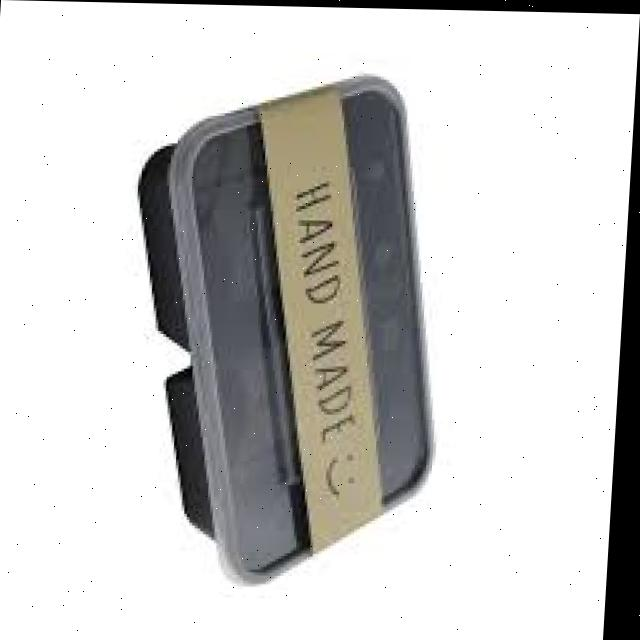disposable: (120, 56, 454, 599)
